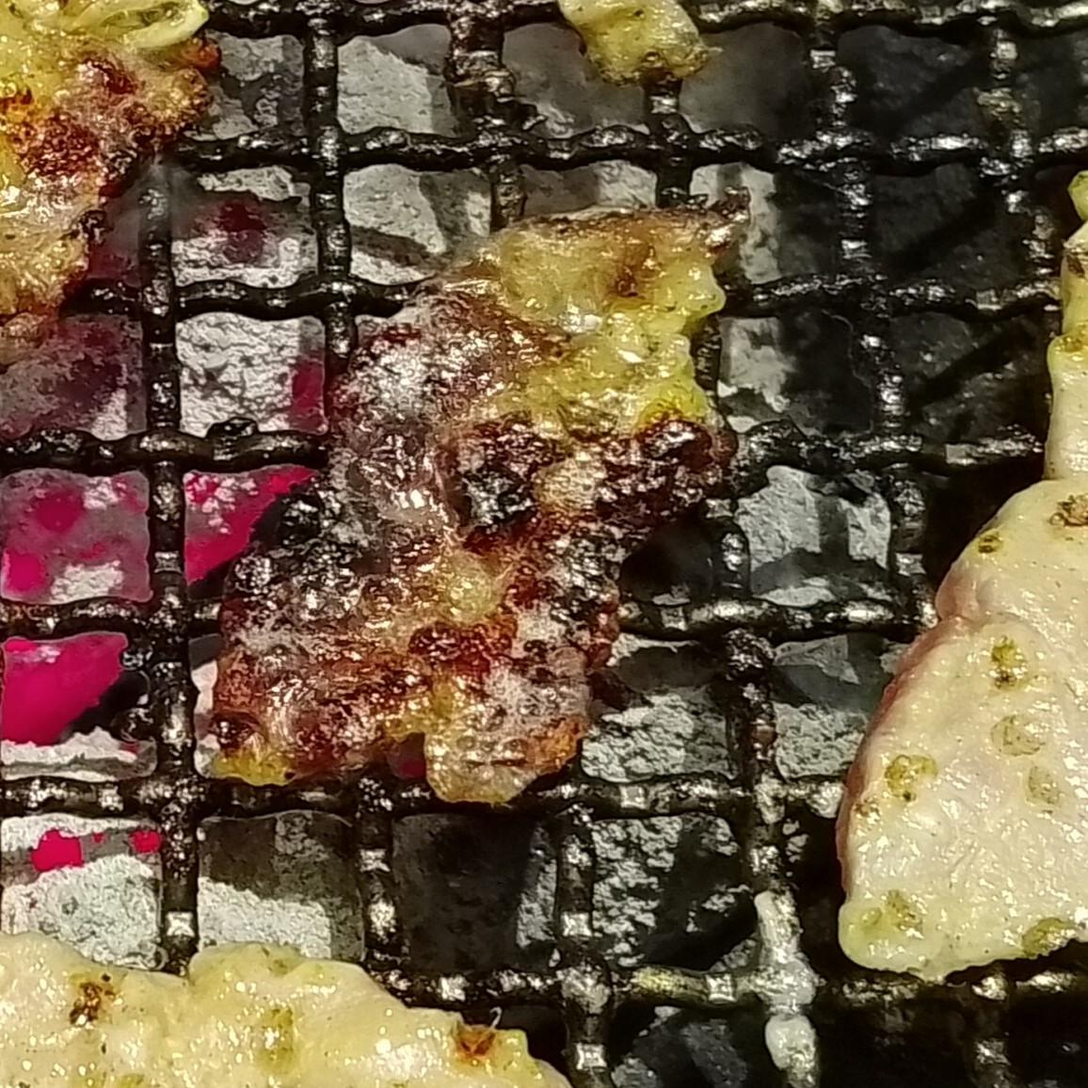Overcooked: (192, 206, 735, 815), (0, 0, 219, 385)
Well-Cooked: (835, 176, 1087, 987), (0, 937, 571, 1087)
